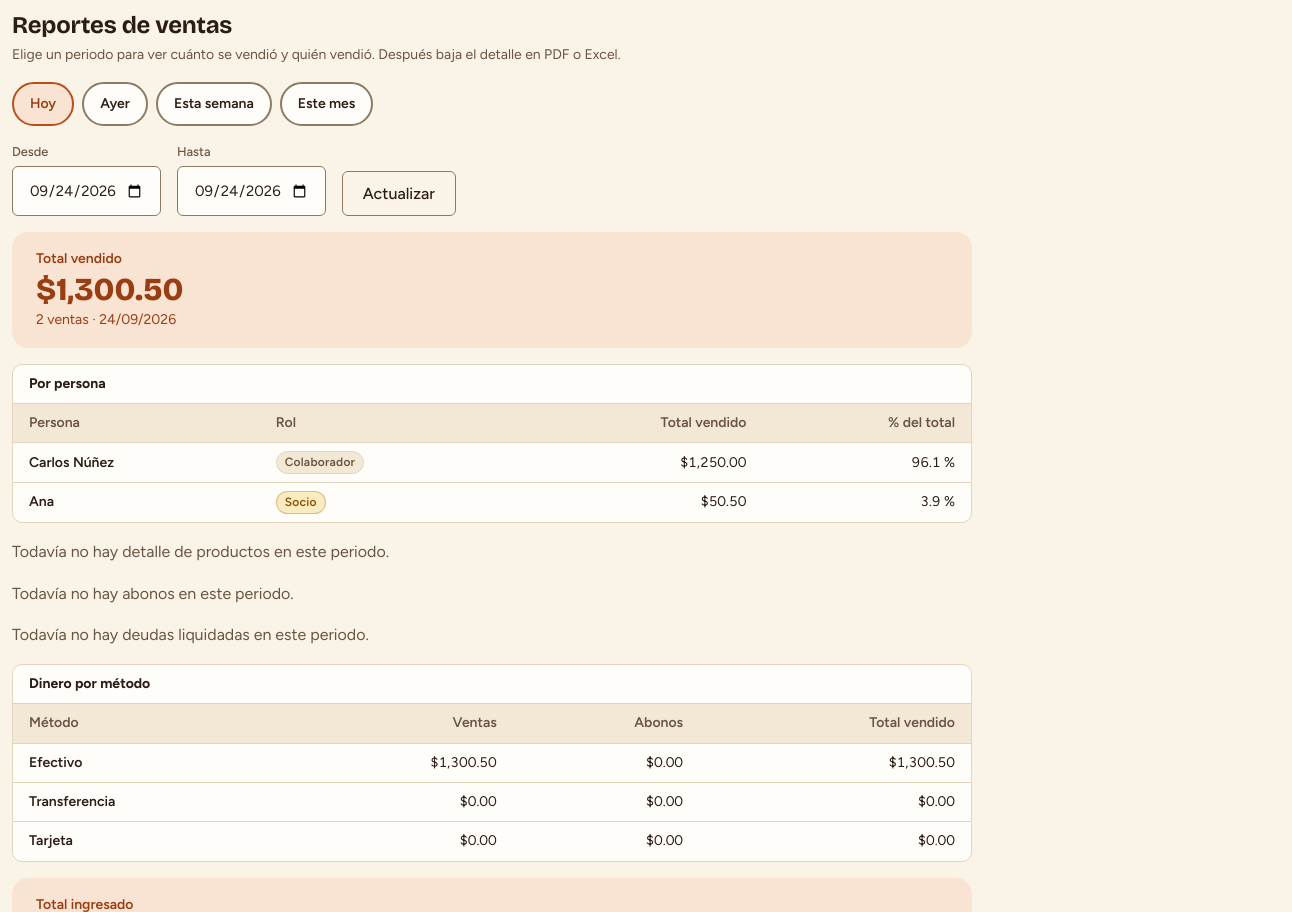
Test case: ReportsView — rangos › preset "Ayer" queries {"from":"2026-09-23","to":"2026-09-23"} right away
Click the button with class "report-range-picker__preset" showing "Ayer" at (115, 104), box [82,82,148,126]
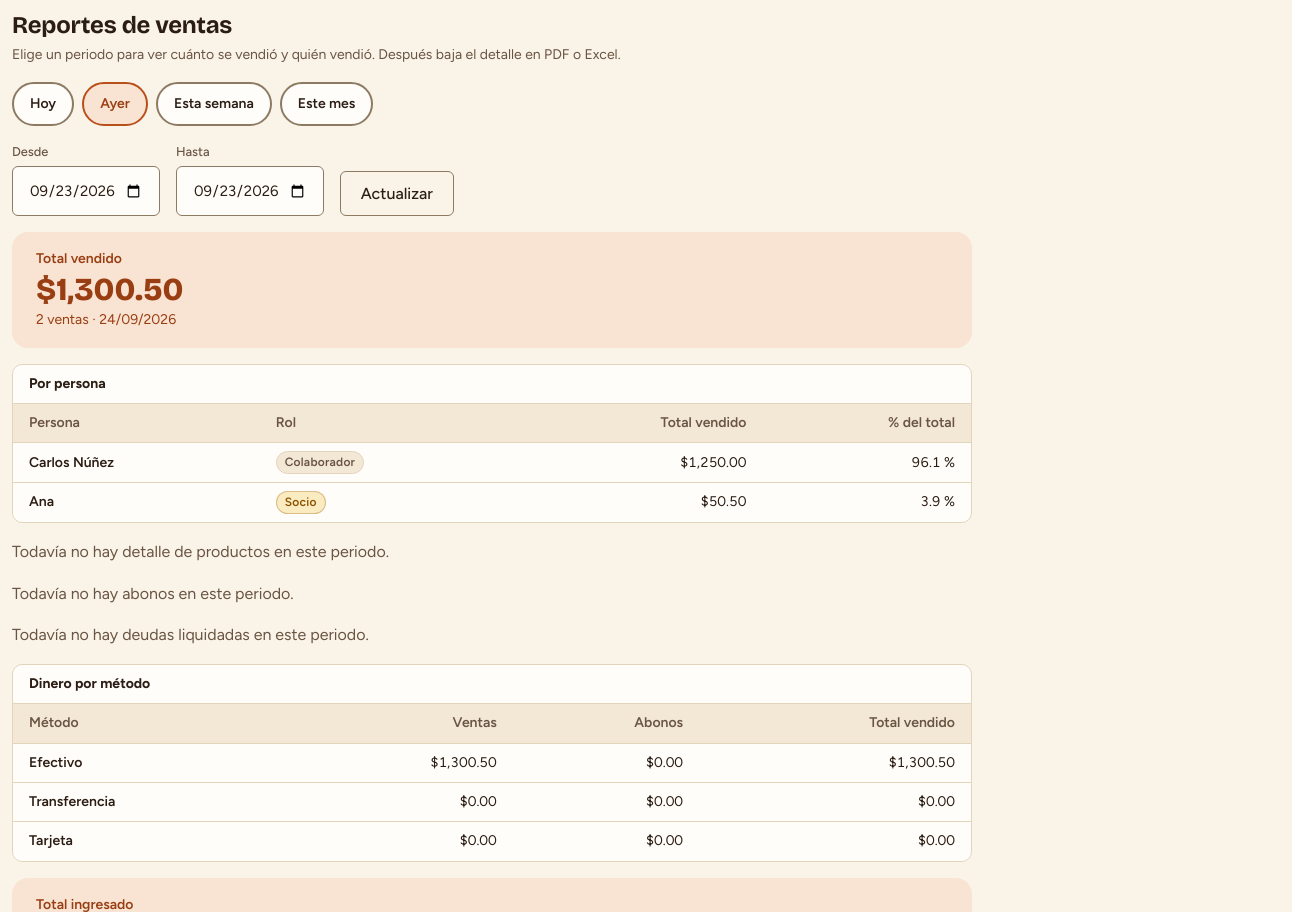
Now the date field labelled "Desde" holds "2026-09-23", box [12,166,160,216]
Now the date field labelled "Hasta" holds "2026-09-23", box [176,166,324,216]
